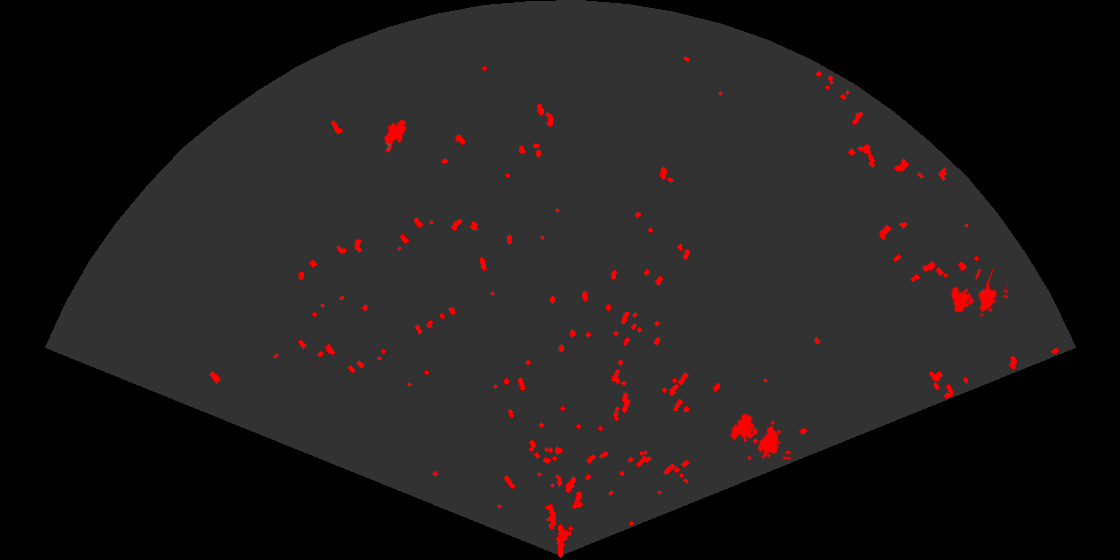AUV: (382, 118, 408, 155)
cage: (728, 412, 791, 460), (949, 269, 1008, 319)
